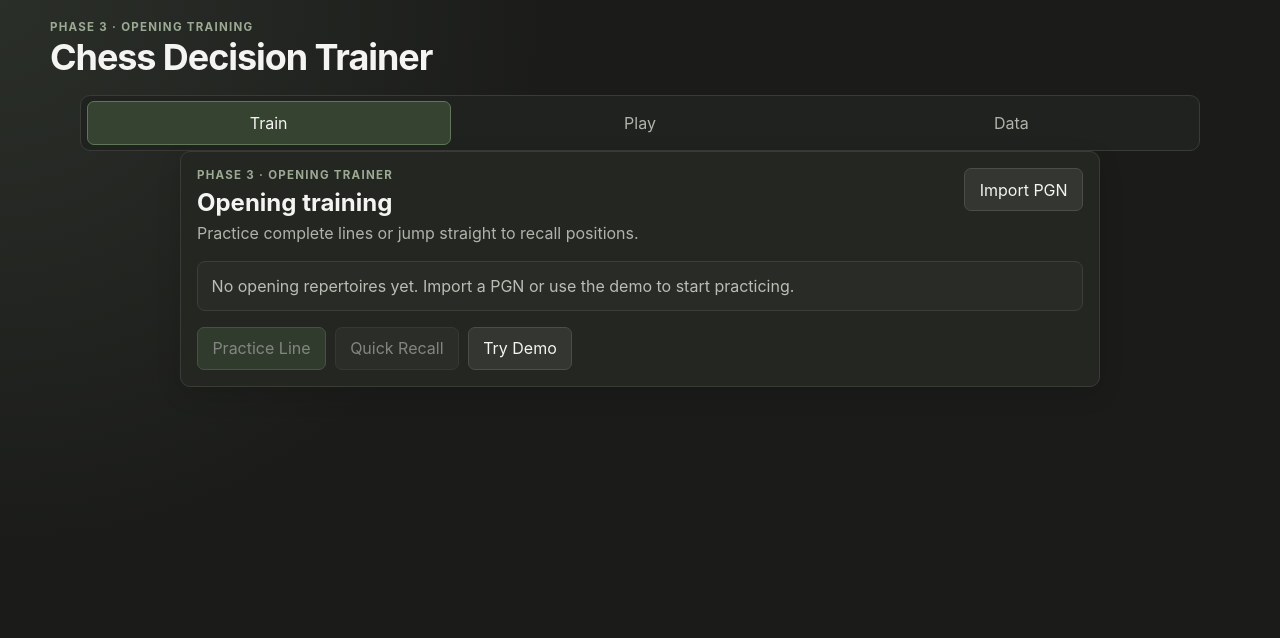
opens on Train and preserves the Play and Data surfaces
Click the tab "Play". click: x=640, y=123
box: [458, 101, 822, 144]
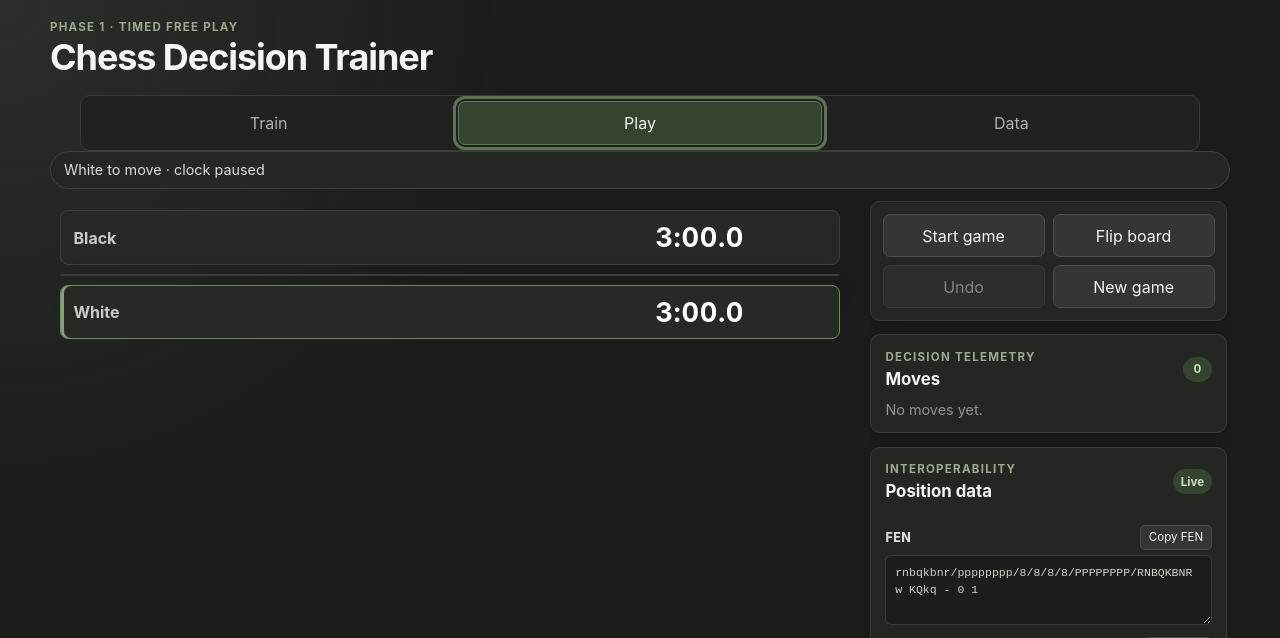
Click the tab "Data". click: x=1011, y=123
box: [829, 101, 1194, 144]
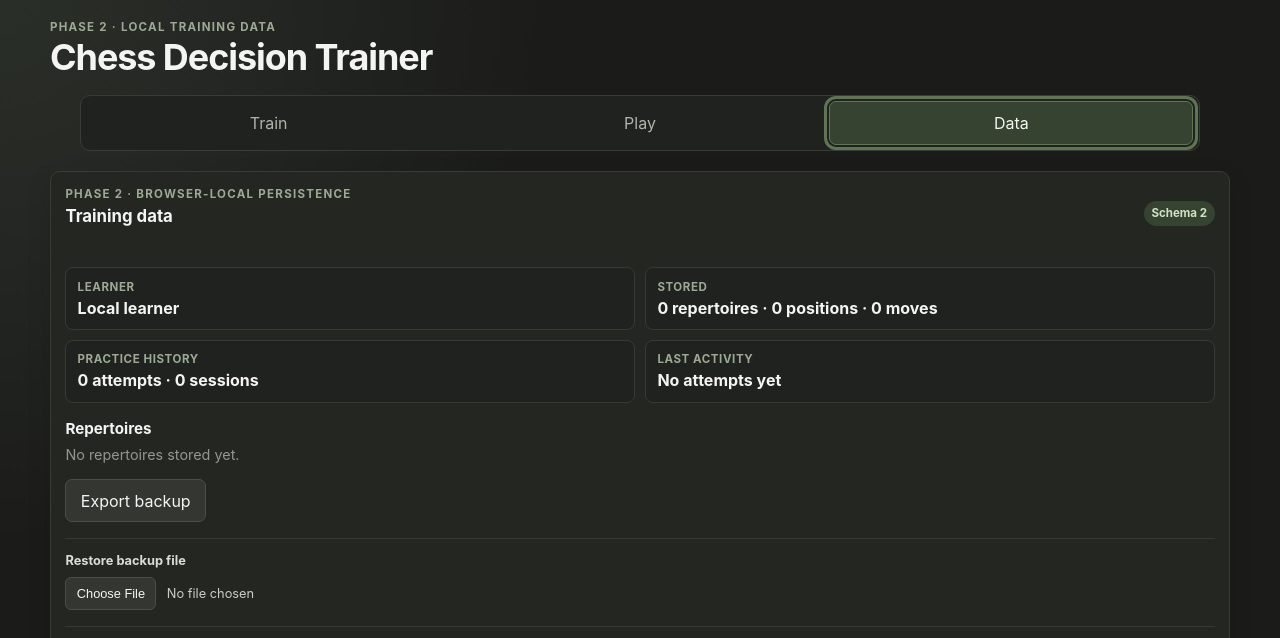
Expected: the heading "Training data" is shown, [65, 206, 173, 226]
